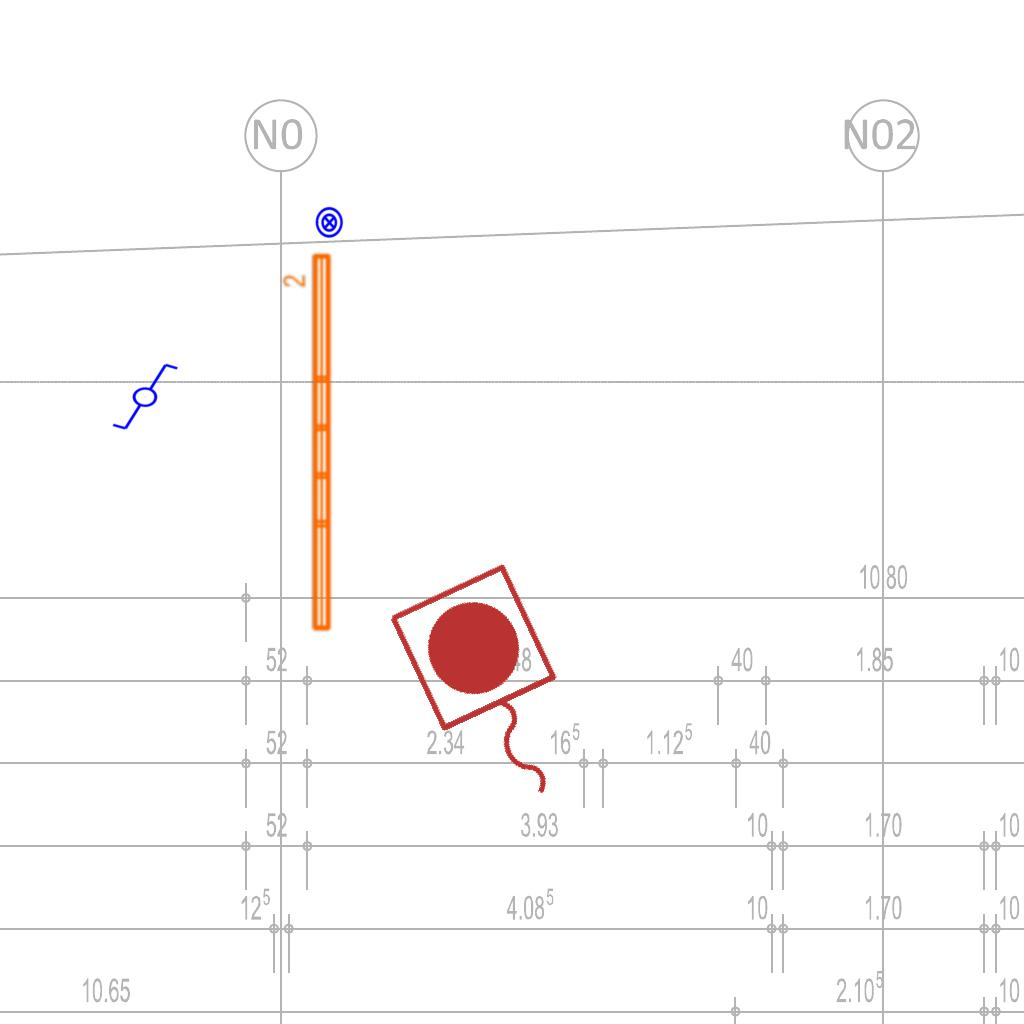Ambulanz_Pendelleuchte_LED: (281, 249, 337, 636)
Taster_beleuchtet: (313, 206, 346, 239)
Wechselschalter: (102, 360, 180, 432)
Zugtaster: (376, 553, 610, 835)
